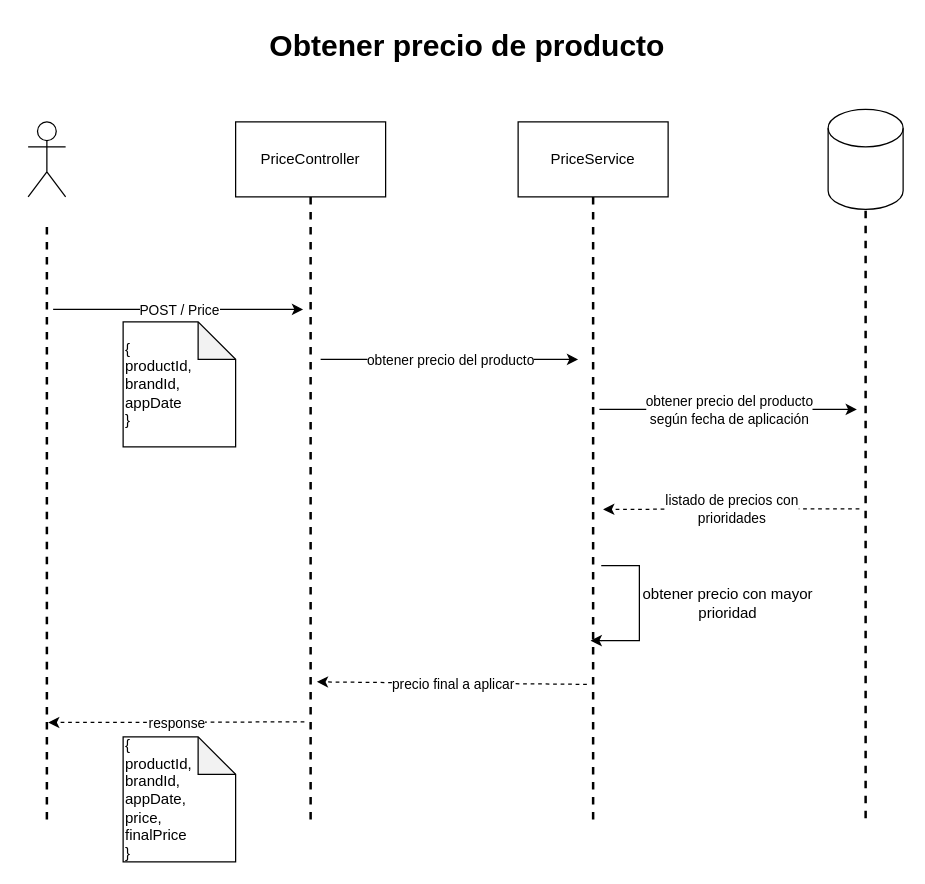
This 925x884 diagram has some shape labels left out. The centre of each missing label's shape, as x and y in pixels:
"DB" goes at [865,158].
"Usuario" goes at [46,159].
